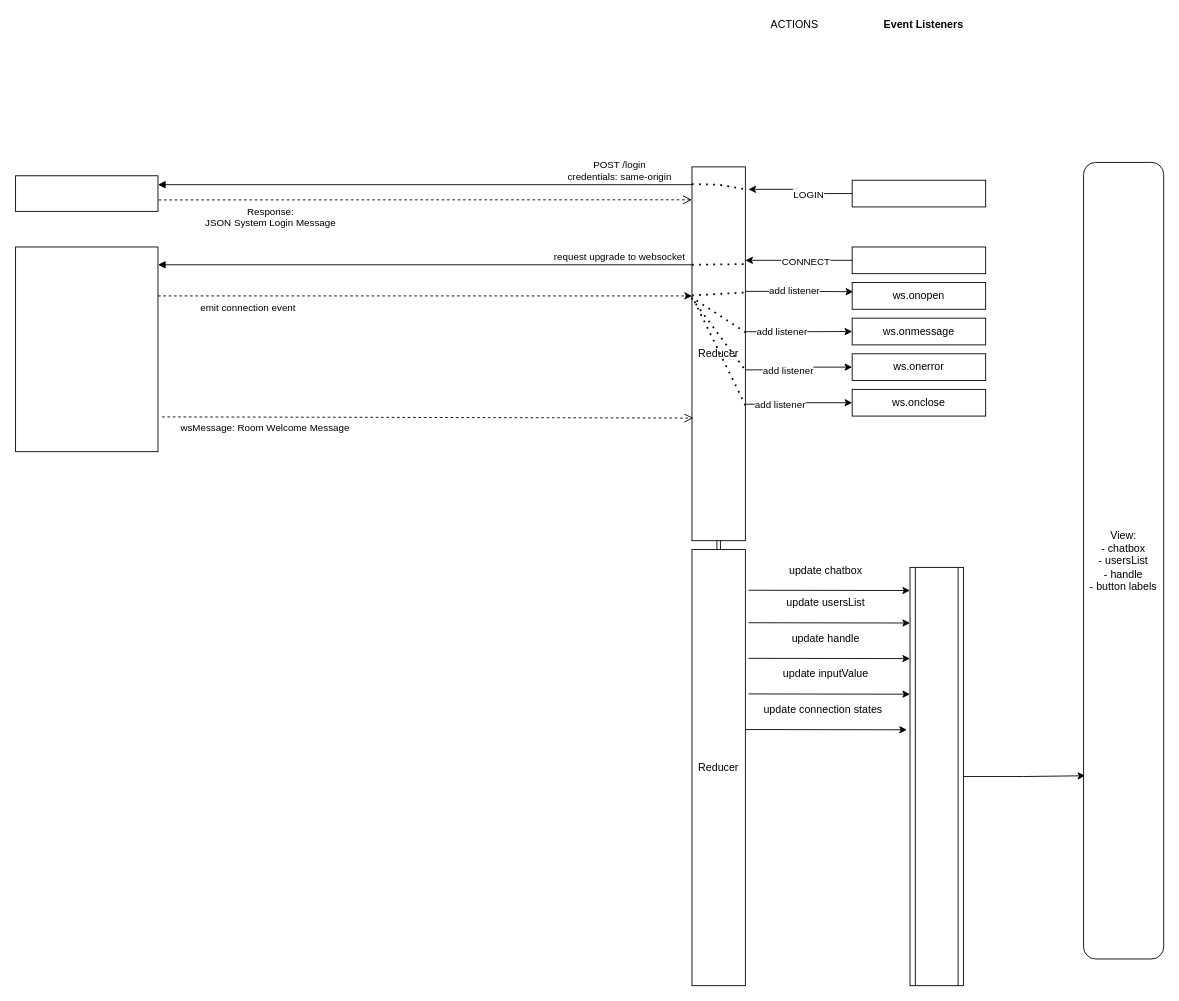
Image size: 1179x1001. Some labels were removed from this diagram. Each missing label, with the box of its shape:
click connect: (851, 246, 986, 274)
click login: (851, 179, 986, 207)
Setup user session: (15, 175, 158, 211)
State: (909, 566, 963, 986)
